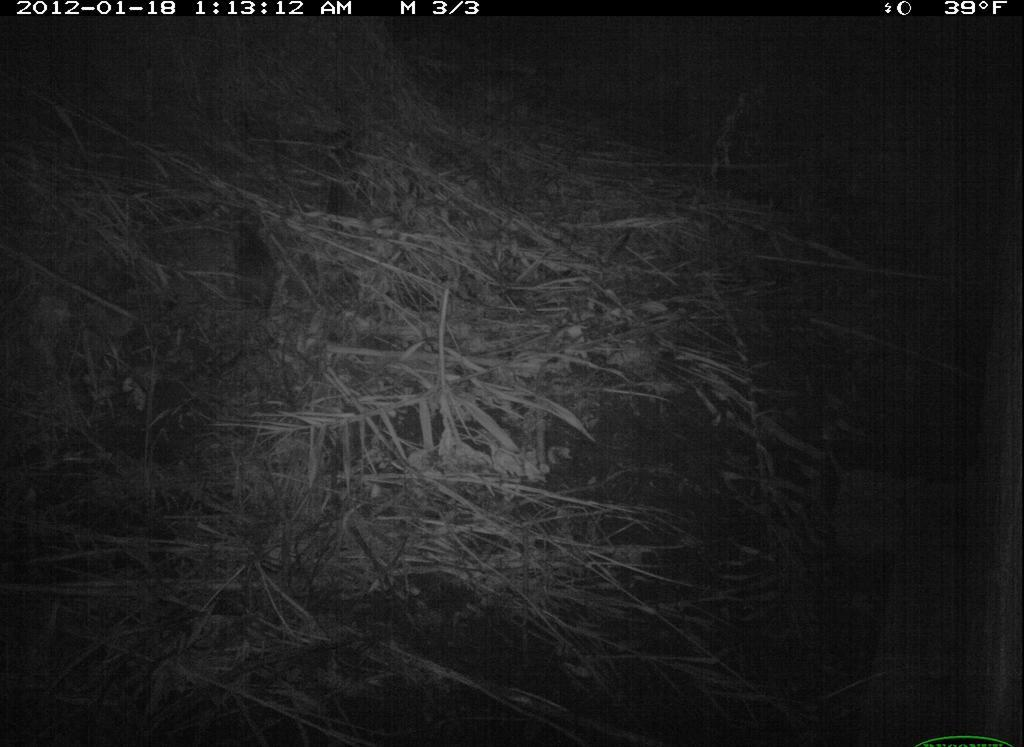opossum: (217, 217, 292, 321)
